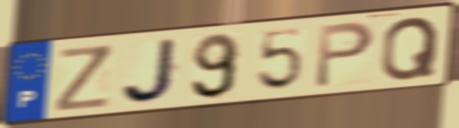5: (253, 25, 306, 93)
9: (189, 31, 243, 102)
J: (119, 36, 181, 107)
P: (312, 19, 377, 91)
Q: (378, 14, 442, 84)
Z: (54, 42, 114, 114)
